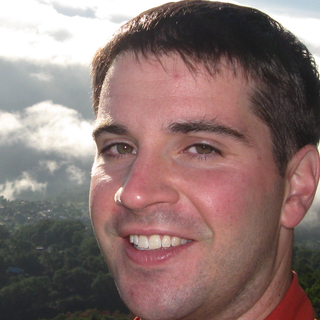eye: (177, 139, 227, 163), (100, 138, 142, 162)
